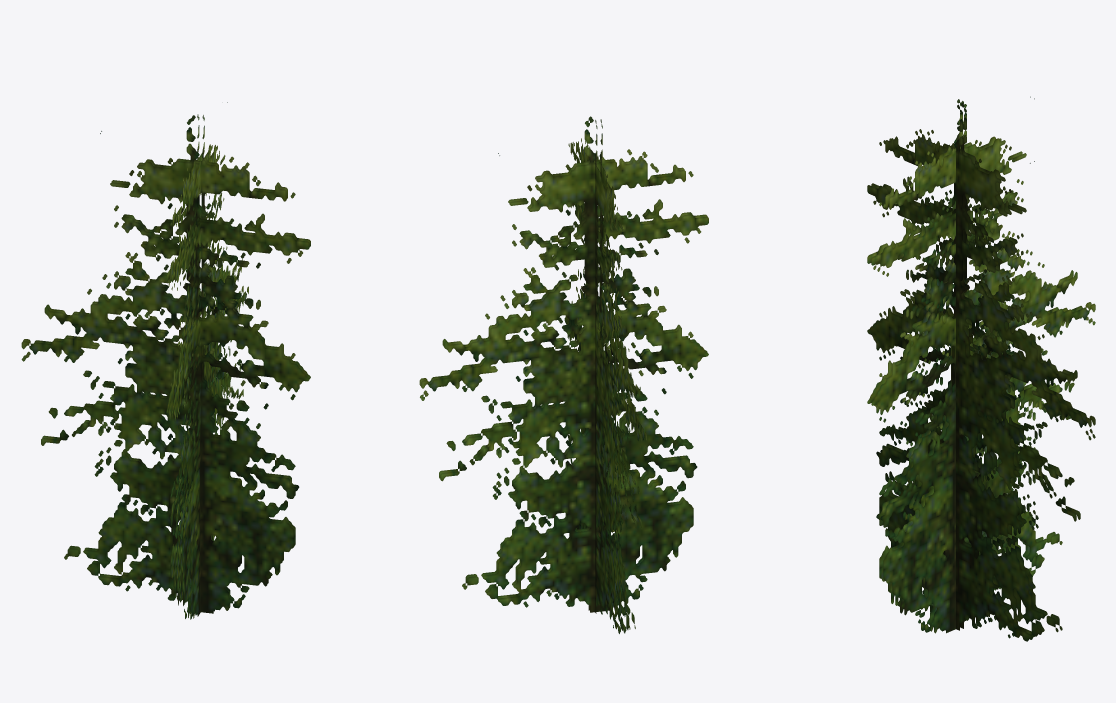
The model's file is tree055.fbx.
The picture shows the model from 3 angles, left to right: view 1: azimuth 30°, elevation 25°; view 2: azimuth 150°, elevation 25°; view 3: azimuth 270°, elevation 25°; orthographic projection. The views are drawn at different scales.
Visible parts, largest first — view 1: tree055; view 2: tree055; view 3: tree055.
Boxes of the visible parts, left/top/right/bottom form: tree055: left=21, top=102, right=310, bottom=619; tree055: left=419, top=116, right=708, bottom=633; tree055: left=867, top=96, right=1095, bottom=641.
Bounding box in the file's own units: 235 × 501 × 235.
Materials: 1 (1 with a texture image).
